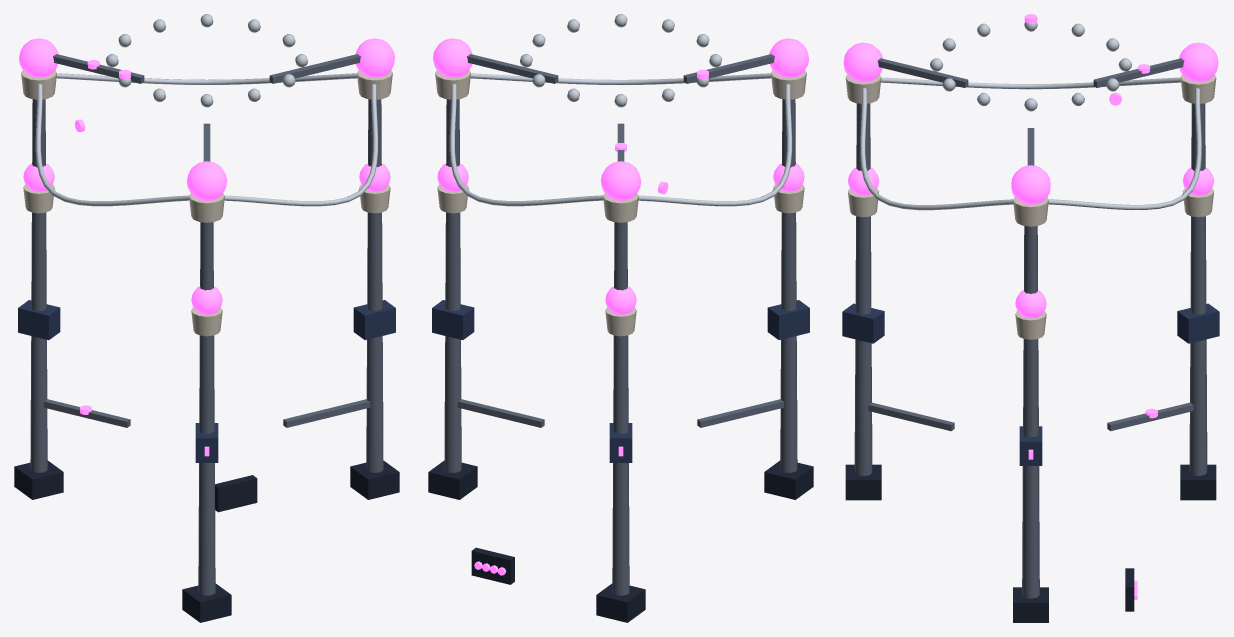
The model's file is tower_arc_range_s9.glb.
The picture shows the model from 3 angles, left to right: view 1: azimuth 30°, elevation 25°; view 2: azimuth 150°, elevation 25°; view 3: azimuth 270°, elevation 25°; orthographic projection.
Parts seen in each view (by area): view 1: arc_sat_strut2, arc_sat_strut1, arc_sat_strut0, arc_relay_wire0, arc_relay_wire1, arc_relay_wire2, arc_sat_foot0, arc_sat_foot1, arc_sat_foot2, arc_ioniser0, arc_ioniser1, arc_sat_electrode2 (+17 smaller); view 2: arc_sat_strut0, arc_sat_strut1, arc_sat_strut2, arc_relay_wire0, arc_relay_wire2, arc_relay_wire1, arc_sat_foot2, arc_sat_foot0, arc_sat_foot1, arc_ioniser1, arc_ioniser2, arc_sat_electrode0 (+17 smaller); view 3: arc_sat_strut1, arc_sat_strut0, arc_sat_strut2, arc_relay_wire1, arc_relay_wire0, arc_relay_wire2, arc_ioniser0, arc_ioniser2, arc_sat_electrode1, arc_sat_electrode0, arc_sat_electrode2, arc_sat_foot0 (+16 smaller).
Boxes of the visible parts, x1,y1,x2,y2 form: arc_sat_strut2: (198, 222, 215, 595); arc_sat_strut1: (366, 99, 383, 472); arc_sat_strut0: (30, 99, 47, 472); arc_relay_wire0: (56, 73, 357, 84); arc_relay_wire1: (224, 84, 378, 206); arc_relay_wire2: (35, 84, 189, 206); arc_sat_foot0: (14, 460, 63, 499); arc_sat_foot1: (350, 460, 399, 499); arc_sat_foot2: (182, 583, 231, 622); arc_ioniser0: (18, 300, 60, 339); arc_ioniser1: (353, 300, 395, 339); arc_sat_electrode2: (187, 161, 227, 200); arc_sat_strut0: (612, 222, 629, 595); arc_sat_strut1: (444, 99, 461, 472); arc_sat_strut2: (780, 99, 797, 472); arc_relay_wire0: (449, 84, 603, 206); arc_relay_wire2: (638, 84, 792, 206); arc_relay_wire1: (470, 73, 771, 84); arc_sat_foot2: (764, 460, 813, 499); arc_sat_foot0: (596, 583, 645, 622); arc_sat_foot1: (428, 460, 477, 499); arc_ioniser1: (432, 300, 474, 339); arc_ioniser2: (767, 300, 809, 339); arc_sat_electrode0: (600, 161, 640, 200); arc_sat_strut1: (1022, 226, 1039, 598); arc_sat_strut0: (1189, 103, 1207, 475); arc_sat_strut2: (854, 103, 872, 475); arc_relay_wire1: (860, 88, 1013, 210); arc_relay_wire0: (1048, 88, 1201, 209); arc_relay_wire2: (881, 77, 1180, 89); arc_ioniser0: (1177, 303, 1219, 343); arc_ioniser2: (842, 303, 884, 343); arc_sat_electrode1: (1011, 165, 1050, 204); arc_sat_electrode0: (1179, 42, 1218, 82); arc_sat_electrode2: (843, 42, 882, 82); arc_sat_foot0: (1180, 464, 1216, 500).
Size of the model in its own units: 1.75 by 2.49 by 1.68.
